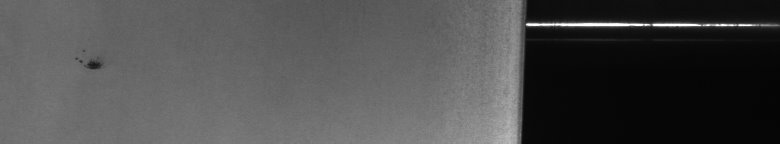fi: (75, 50, 104, 77)
